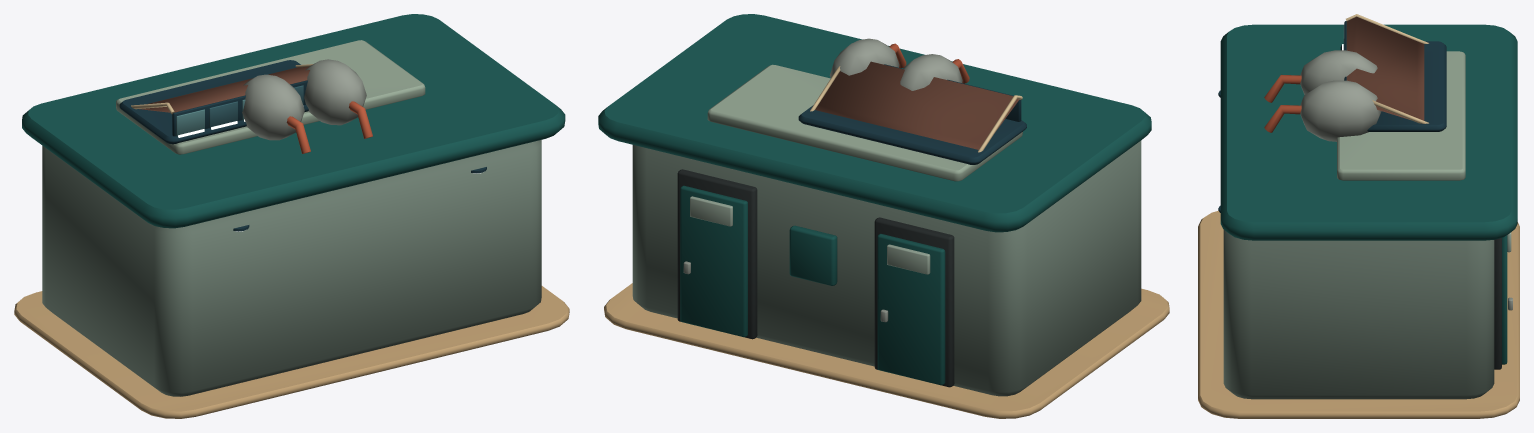
File: showers.glb
3 views of the same model, side by side, from view 1: azimuth 30°, elevation 25°; view 2: azimuth 150°, elevation 25°; view 3: azimuth 270°, elevation 25° (orthographic). The views are drawn at different scales.
Parts seen in each view (by area): view 1: Showers; view 2: Showers; view 3: Showers.
Boxes of the visible parts, left/top/right/bottom form: Showers: left=14, top=14, right=569, bottom=418; Showers: left=598, top=14, right=1169, bottom=418; Showers: left=1198, top=14, right=1519, bottom=418.
Bounding box in the file's own units: 5.8 × 3.24 × 3.8.
